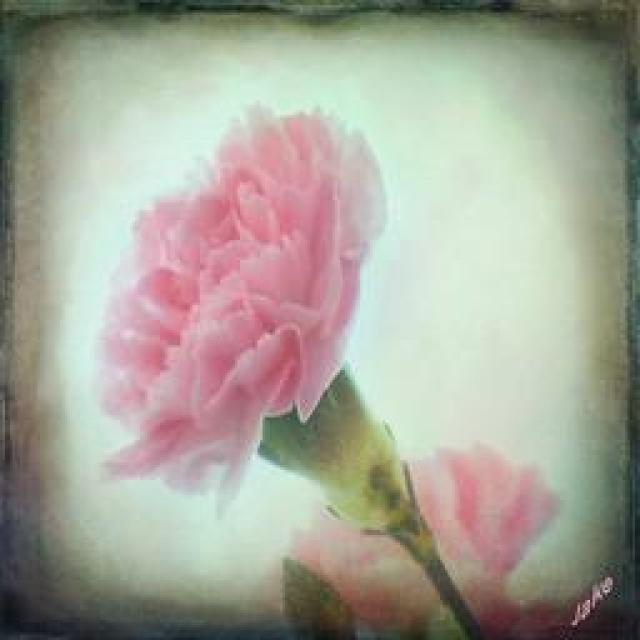carnation: (85, 88, 398, 496)
